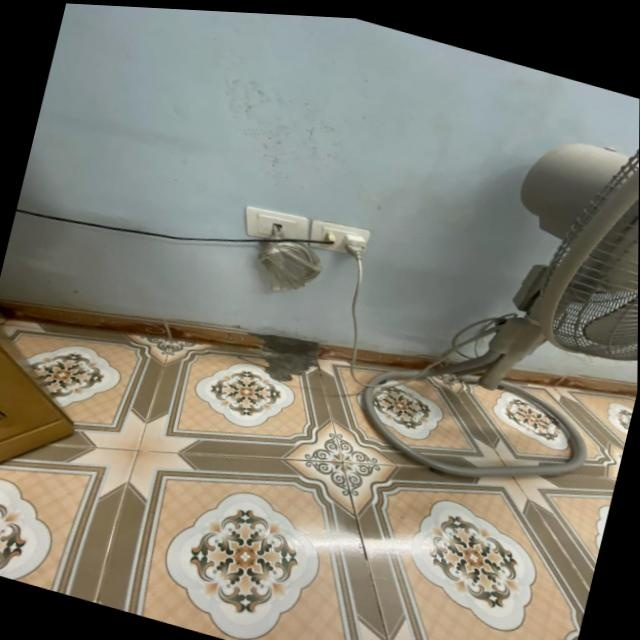outlet: (238, 199, 310, 251), (305, 214, 371, 262)
